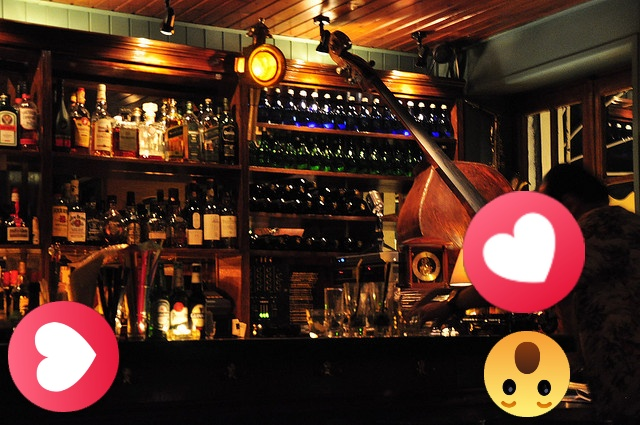love: (463, 191, 585, 313), (8, 301, 119, 412)
wow: (484, 331, 570, 417)
